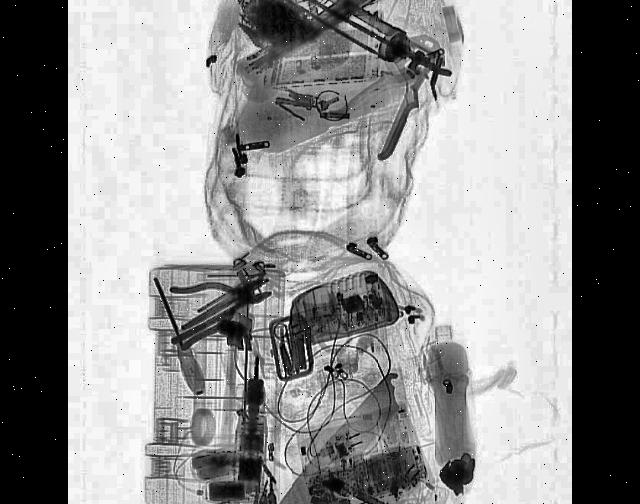Pliers: (168, 250, 278, 354)
